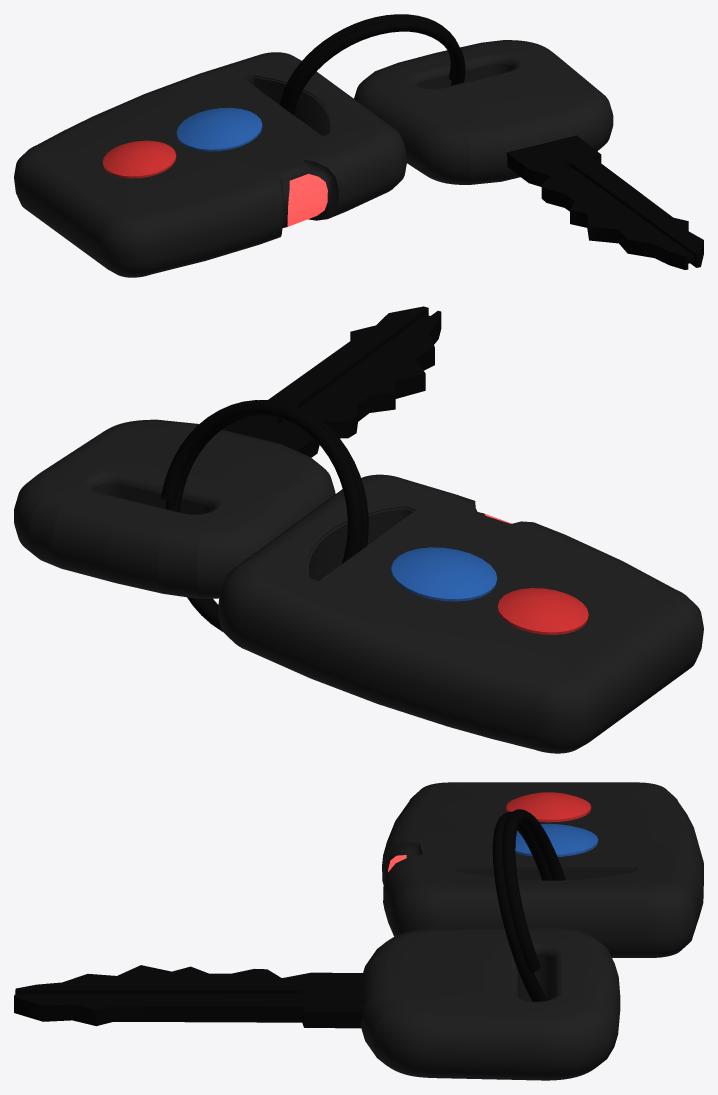
Rendered from Car Keys.fbx.
3 renders of one model, top to bottom at view 1: azimuth 30°, elevation 25°; view 2: azimuth 150°, elevation 25°; view 3: azimuth 270°, elevation 25°, orthographic. The views are drawn at different scales.
Visible parts, largest first — view 1: Alarm_fob, Keyhead, MetlKey, Ring, Button1, Button2; view 2: Alarm_fob, Keyhead, MetlKey, Ring, Button1, Button2; view 3: Alarm_fob, Keyhead, MetlKey, Ring, Button2, Button1.
Part boxes in pixels (x1,y1,x2,y2): Alarm_fob: [14, 52, 406, 277]; Keyhead: [354, 40, 613, 184]; MetlKey: [506, 135, 703, 269]; Ring: [280, 14, 465, 115]; Button1: [176, 107, 262, 151]; Button2: [102, 140, 176, 178]; Alarm_fob: [218, 474, 703, 753]; Keyhead: [14, 419, 335, 598]; MetlKey: [222, 306, 441, 457]; Ring: [161, 400, 368, 631]; Button1: [391, 547, 497, 601]; Button2: [497, 588, 588, 634]; Alarm_fob: [382, 782, 703, 957]; Keyhead: [361, 926, 620, 1080]; MetlKey: [14, 965, 363, 1028]; Ring: [492, 809, 565, 1001]; Button2: [506, 792, 591, 822]; Button1: [515, 823, 598, 856].
Size of the model in its own units: 18.82 by 6.19 by 19.47.
